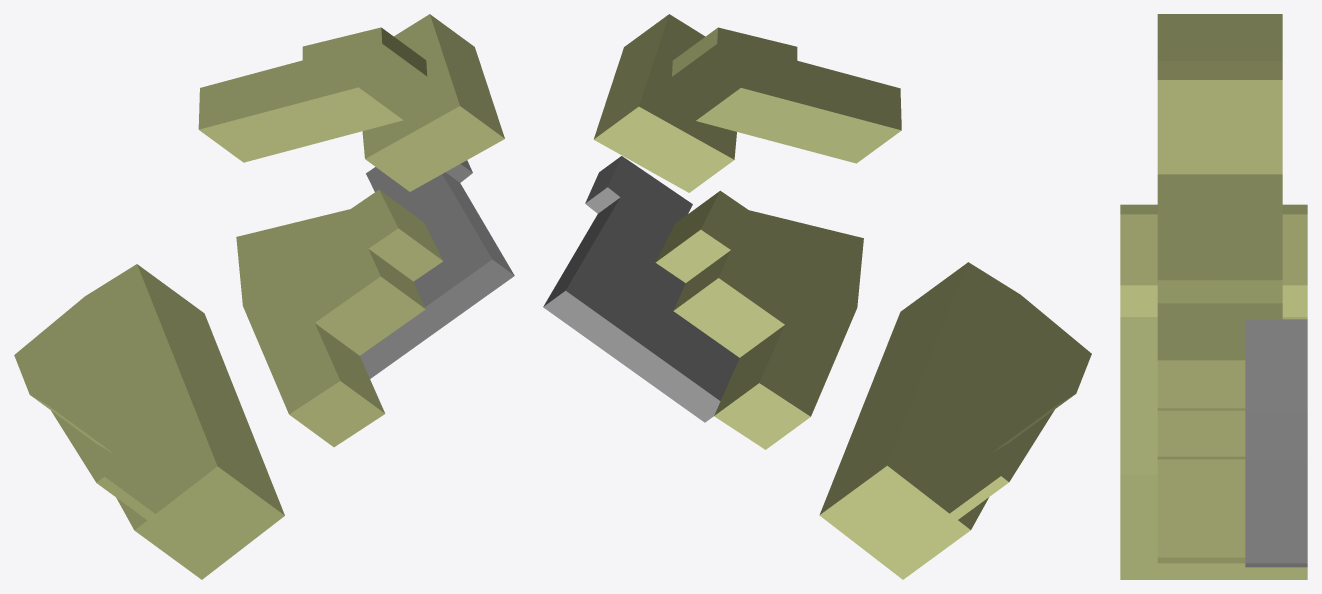
3 views of the same model, side by side, from view 1: azimuth 30°, elevation 25°; view 2: azimuth 150°, elevation 25°; view 3: azimuth 270°, elevation 25° (orthographic). The views are drawn at different scales.
Parts seen in each view (by area): view 1: 0_3_1_0_3_3_3_3_3; view 2: 0_3_1_0_3_3_3_3_3; view 3: 0_3_1_0_3_3_3_3_3.
Part boxes in pixels (box(x1,y1,x2,y2)): 0_3_1_0_3_3_3_3_3: box(14, 14, 514, 579); 0_3_1_0_3_3_3_3_3: box(543, 14, 1091, 579); 0_3_1_0_3_3_3_3_3: box(1120, 14, 1307, 579).
Bounding box in the file's own units: 36.78 × 33.31 × 9.
